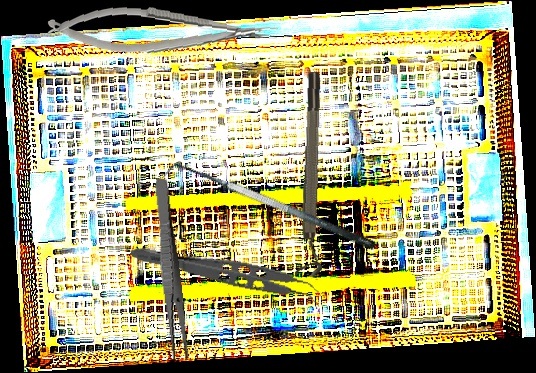Dressing Forceps: (149, 178, 191, 361)
Fixation Ring: (294, 71, 333, 278)
Needle Holder: (45, 0, 279, 64)
Spatula Surgical: (162, 151, 378, 268)
Tissue Forceps: (126, 242, 325, 309)
